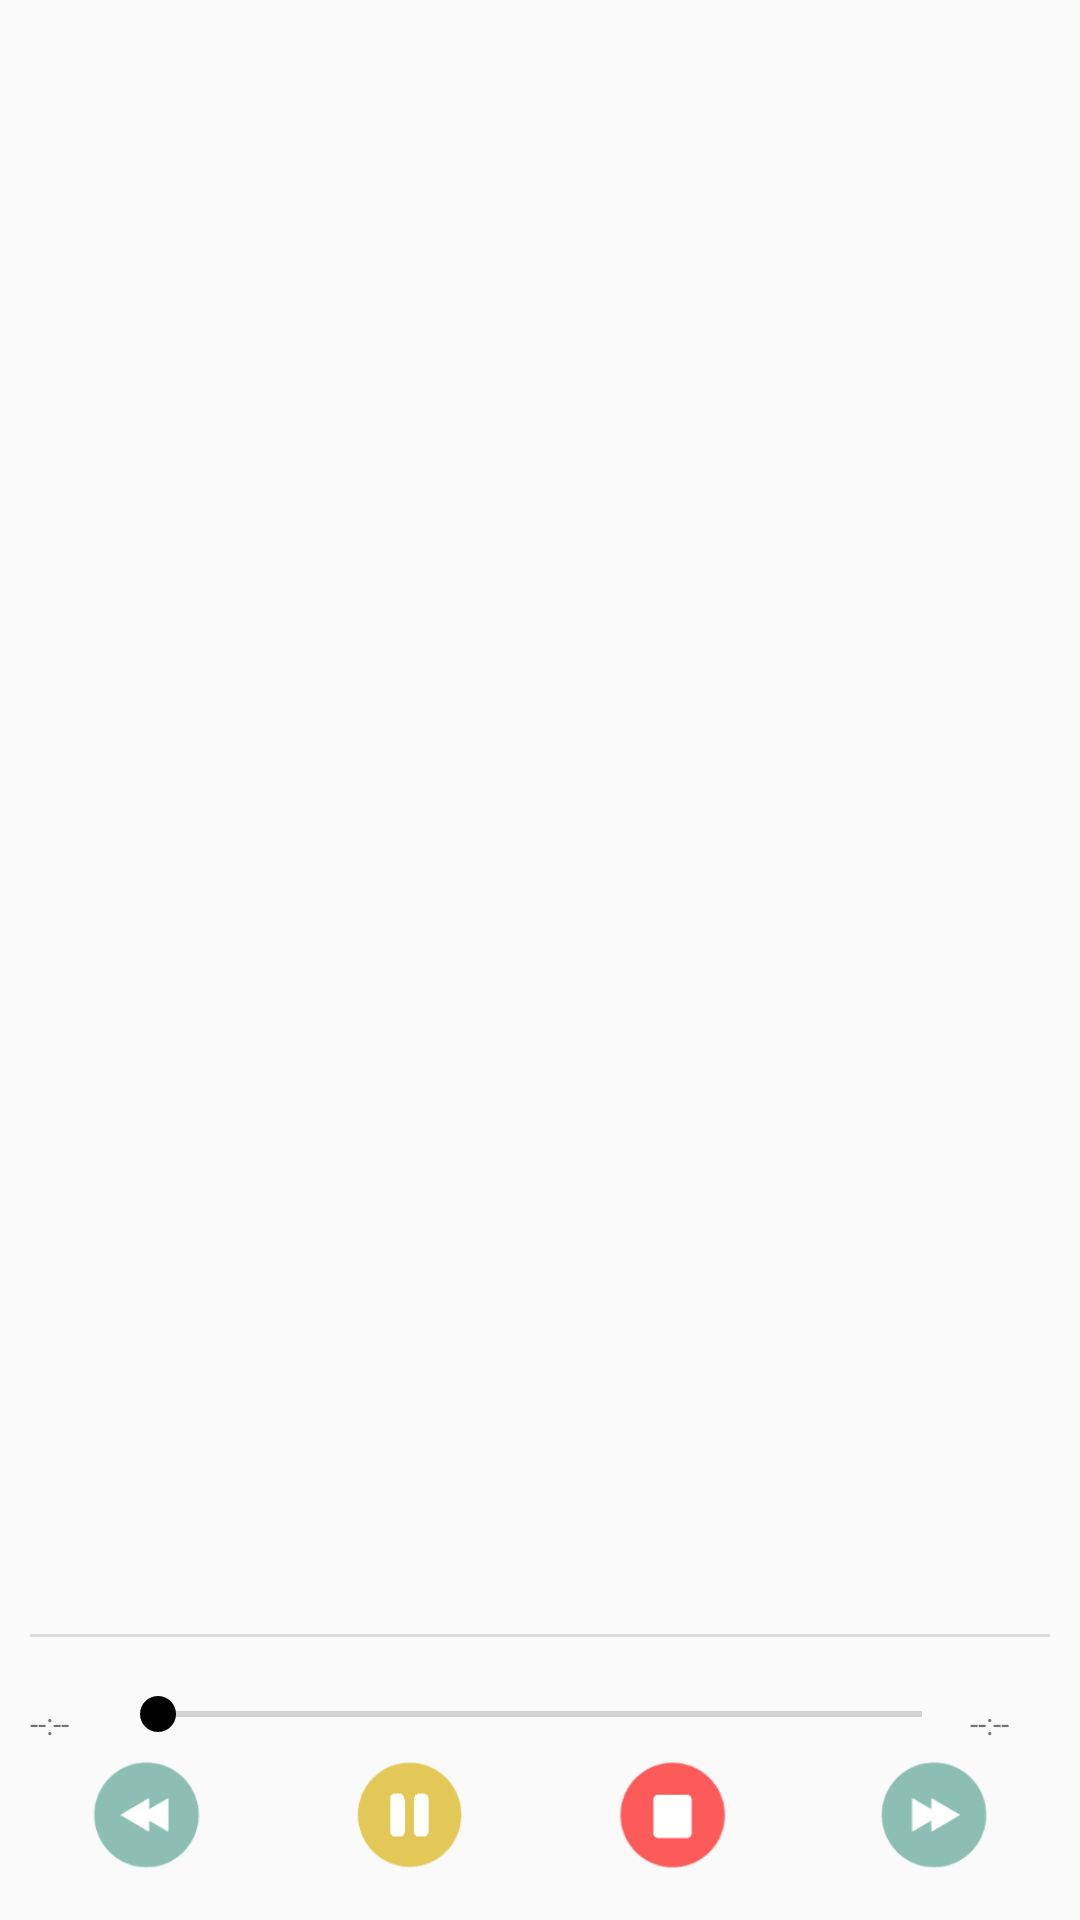

Icons on this 1080px×1920px Android screen, each with its box as (x1, y1, x2, y2):
next: (881, 1762, 987, 1868)
pause: (357, 1762, 462, 1868)
prev: (94, 1762, 199, 1868)
stop: (620, 1762, 725, 1868)
